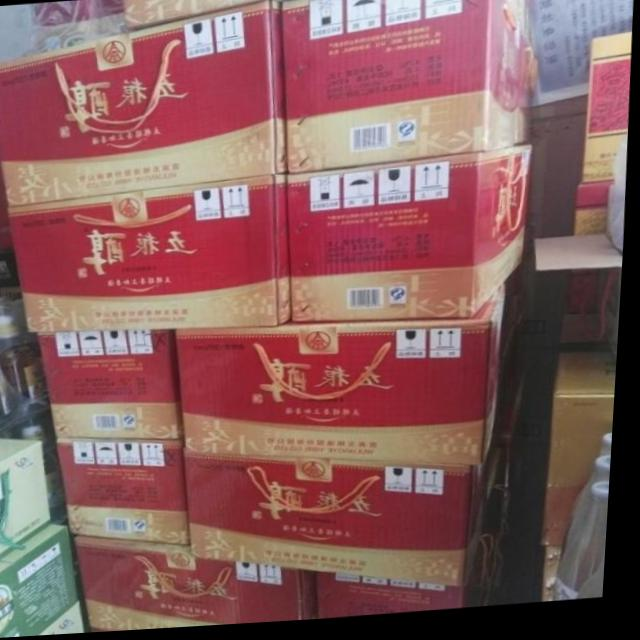box: (179, 289, 508, 470), (0, 2, 288, 207), (9, 177, 294, 333), (288, 150, 535, 325), (282, 0, 522, 177), (191, 454, 494, 593), (81, 536, 324, 633), (41, 331, 190, 441), (62, 438, 197, 547), (321, 556, 484, 622), (0, 524, 90, 639), (0, 438, 58, 565), (122, 0, 300, 31)
